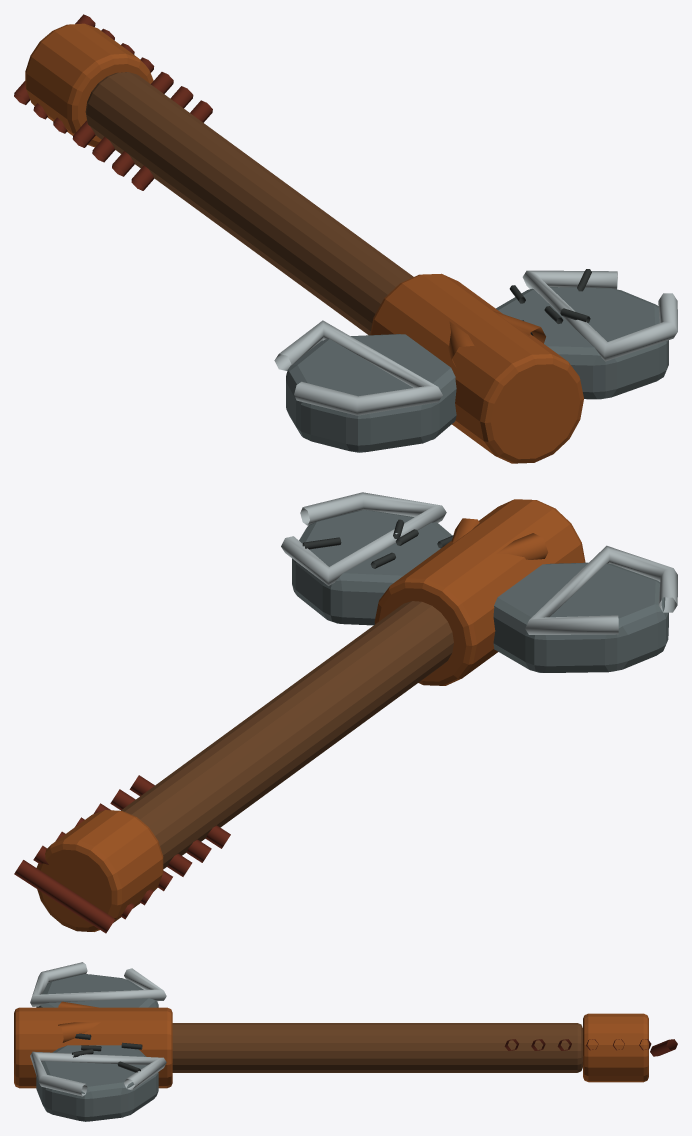
The model's file is pelekys_axe_1h_LOD0.glb.
3 views of the same model, one above another, from view 1: azimuth 30°, elevation 25°; view 2: azimuth 150°, elevation 25°; view 3: azimuth 270°, elevation 25° (orthographic). The views are drawn at different scales.
Visible parts, largest first — view 1: PelekysHaft, PelekysDoubleHead, PelekysSocket, PelekysButtCap, PelekysLeftEdge, PelekysRightEdge, PelekysLabrysMark, PelekysLeatherWrap, PelekysLeatherWrap.001, PelekysLeatherWrap.002; view 2: PelekysHaft, PelekysDoubleHead, PelekysSocket, PelekysButtCap, PelekysRightEdge, PelekysLeftEdge, PelekysLeatherWrap.006, PelekysLabrysMark; view 3: PelekysHaft, PelekysDoubleHead, PelekysSocket, PelekysButtCap, PelekysRightEdge, PelekysLeftEdge, PelekysLabrysMark, PelekysLeatherWrap.006.
Part boxes in pixels (x1,y1,x2,y2): PelekysHaft: (85, 72, 413, 335); PelekysDoubleHead: (286, 287, 668, 452); PelekysSocket: (370, 273, 583, 463); PelekysButtCap: (25, 23, 153, 147); PelekysLeftEdge: (274, 320, 442, 415); PelekysRightEdge: (522, 270, 677, 361); PelekysLabrysMark: (448, 311, 545, 366); PelekysLeatherWrap: (131, 100, 212, 190); PelekysLeatherWrap.001: (112, 86, 193, 176); PelekysLeatherWrap.002: (92, 72, 173, 162); PelekysHaft: (121, 601, 453, 868); PelekysDoubleHead: (292, 510, 668, 672); PelekysSocket: (374, 499, 585, 685); PelekysButtCap: (36, 810, 163, 931); PelekysRightEdge: (281, 492, 446, 585); PelekysLeftEdge: (525, 545, 677, 634); PelekysLeatherWrap.006: (14, 860, 115, 933); PelekysLabrysMark: (451, 518, 548, 559); PelekysHaft: (172, 1023, 582, 1072); PelekysDoubleHead: (36, 974, 158, 1121); PelekysSocket: (14, 1007, 172, 1088); PelekysButtCap: (583, 1013, 648, 1082); PelekysRightEdge: (30, 1051, 166, 1096); PelekysLeftEdge: (30, 962, 166, 1006); PelekysLabrysMark: (58, 1001, 100, 1042); PelekysLeatherWrap.006: (650, 1039, 677, 1056).
Bounding box in the file's own units: 0.4527 × 0.122 × 1.
